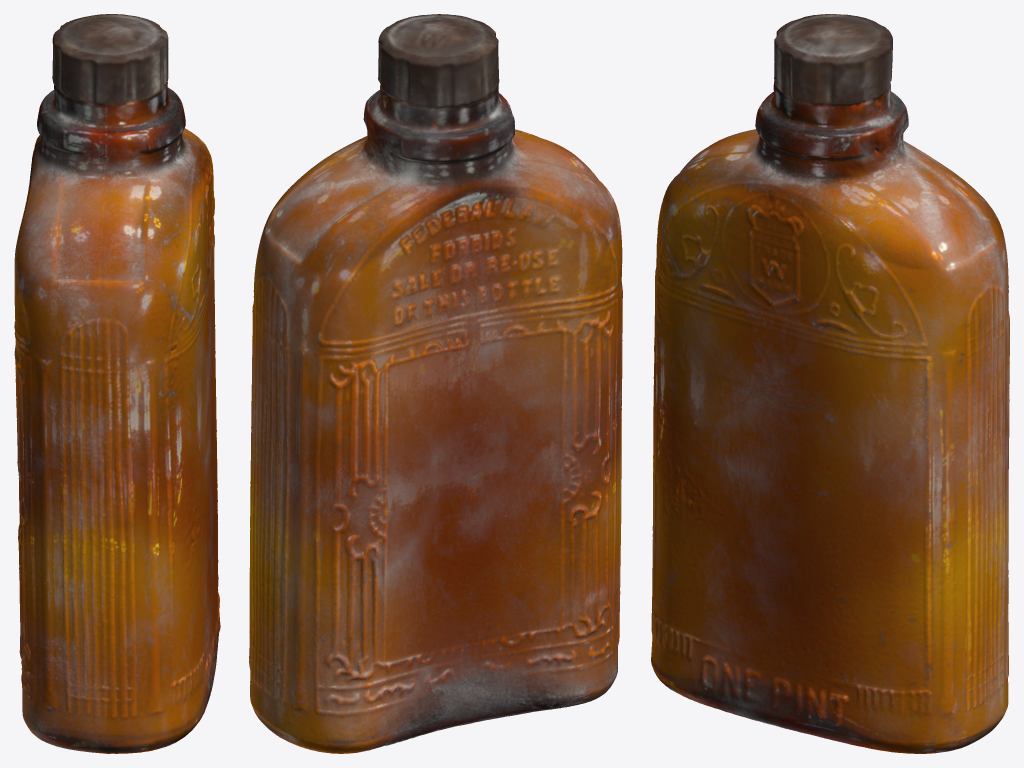
Rendered from sise.glb.
3 views of the same model, side by side, from view 1: azimuth 30°, elevation 25°; view 2: azimuth 150°, elevation 25°; view 3: azimuth 270°, elevation 25° (orthographic). The views are drawn at different scales.
Parts seen in each view (by area): view 1: Object_3, Object_4, Object_2, Object_5; view 2: Object_4, Object_3, Object_5, Object_2; view 3: Object_4, Object_3, Object_5, Object_2.
Boxes of the visible parts, x1,y1,x2,y2 form: Object_3: (14, 14, 220, 753); Object_4: (14, 87, 219, 753); Object_2: (14, 14, 163, 742); Object_5: (14, 14, 200, 741); Object_4: (249, 88, 622, 748); Object_3: (249, 14, 621, 752); Object_5: (250, 40, 622, 753); Object_2: (321, 15, 619, 706); Object_4: (651, 99, 1009, 752); Object_3: (651, 16, 1009, 753); Object_5: (680, 44, 1009, 721); Object_2: (759, 14, 999, 221).
Bounding box in the file's own units: 2.05 × 4.87 × 2.38.
1 material, 1 textured.
